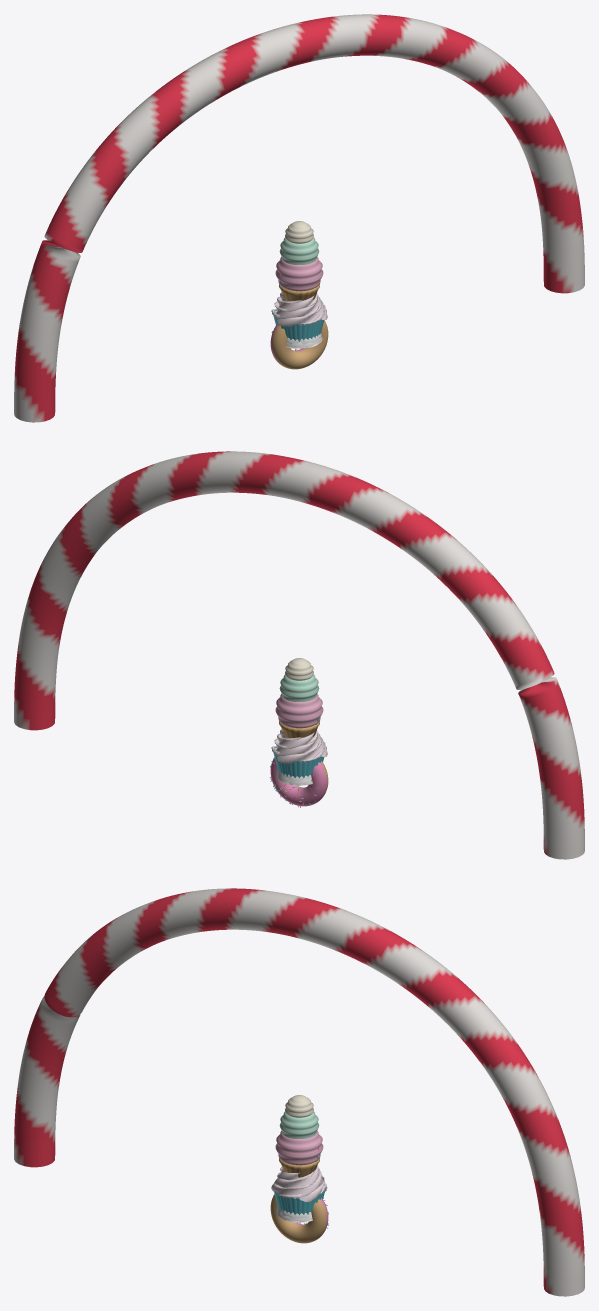
The model's file is nr_candy.glb.
3 renders of one model, top to bottom at view 1: azimuth 30°, elevation 25°; view 2: azimuth 150°, elevation 25°; view 3: azimuth 330°, elevation 25°, orthographic.
Visible parts, largest first — view 1: canearch, icecream, cupcake, donut; view 2: canearch, icecream, cupcake, donut; view 3: canearch, icecream, cupcake, donut.
Part boxes in pixels (left/top/right/bottom): canearch: left=14, top=14, right=584, bottom=422; icecream: left=275, top=221, right=323, bottom=301; cupcake: left=271, top=292, right=327, bottom=341; donut: left=270, top=320, right=328, bottom=369; canearch: left=14, top=451, right=584, bottom=859; icecream: left=275, top=658, right=323, bottom=738; cupcake: left=271, top=729, right=327, bottom=778; donut: left=269, top=757, right=328, bottom=807; canearch: left=14, top=888, right=584, bottom=1296; icecream: left=275, top=1095, right=323, bottom=1177; cupcake: left=271, top=1165, right=327, bottom=1214; donut: left=270, top=1194, right=328, bottom=1243.
Bounding box in the file's own units: 29.04 × 16.89 × 2.5.
